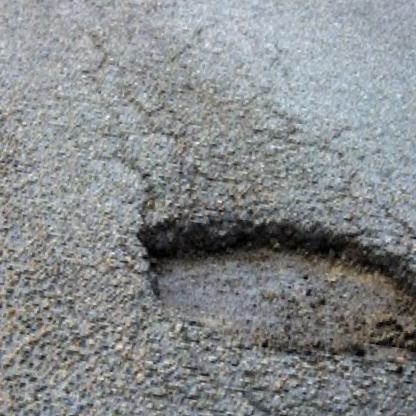pothole: (124, 199, 416, 378)
